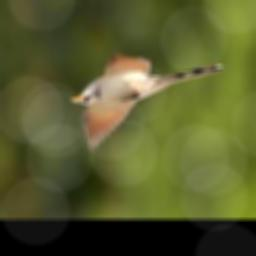Cuckoo: (70, 58, 223, 148)
